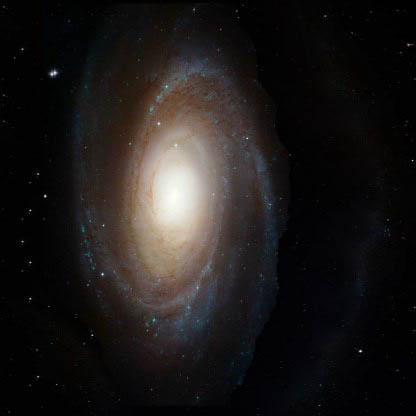Messier 81: (42, 22, 286, 374)
